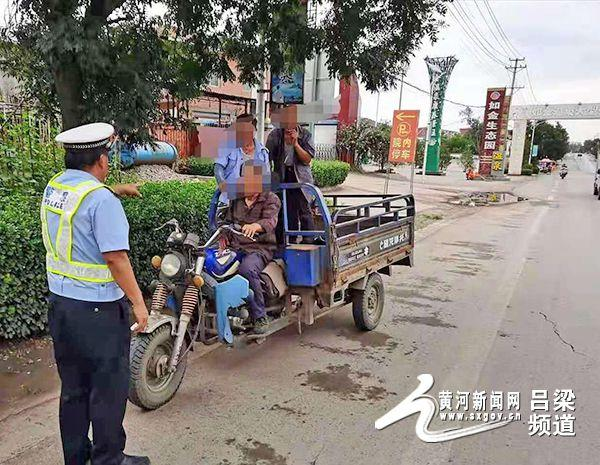driver: (183, 155, 310, 335)
overloading: (125, 80, 426, 378)
passenger: (269, 105, 338, 243), (220, 99, 278, 214)
